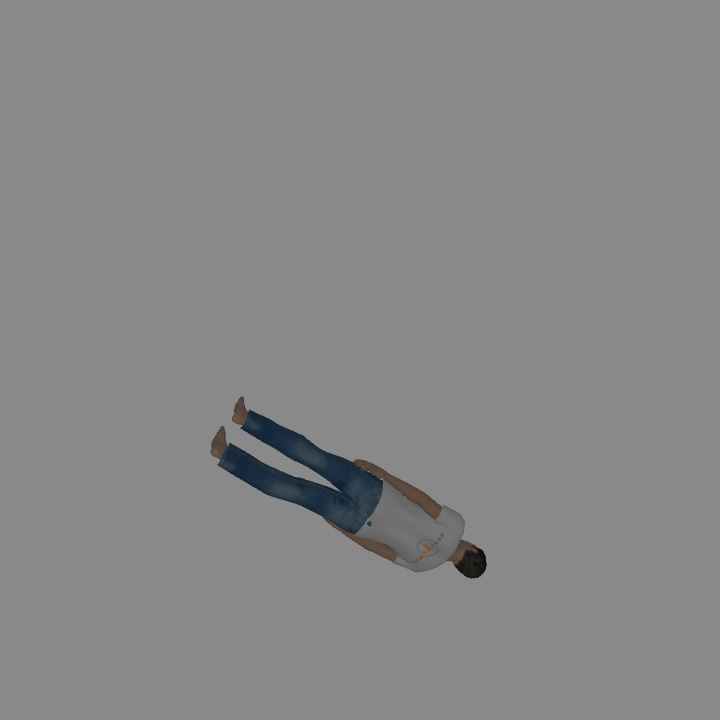victim: (214, 404, 489, 578)
